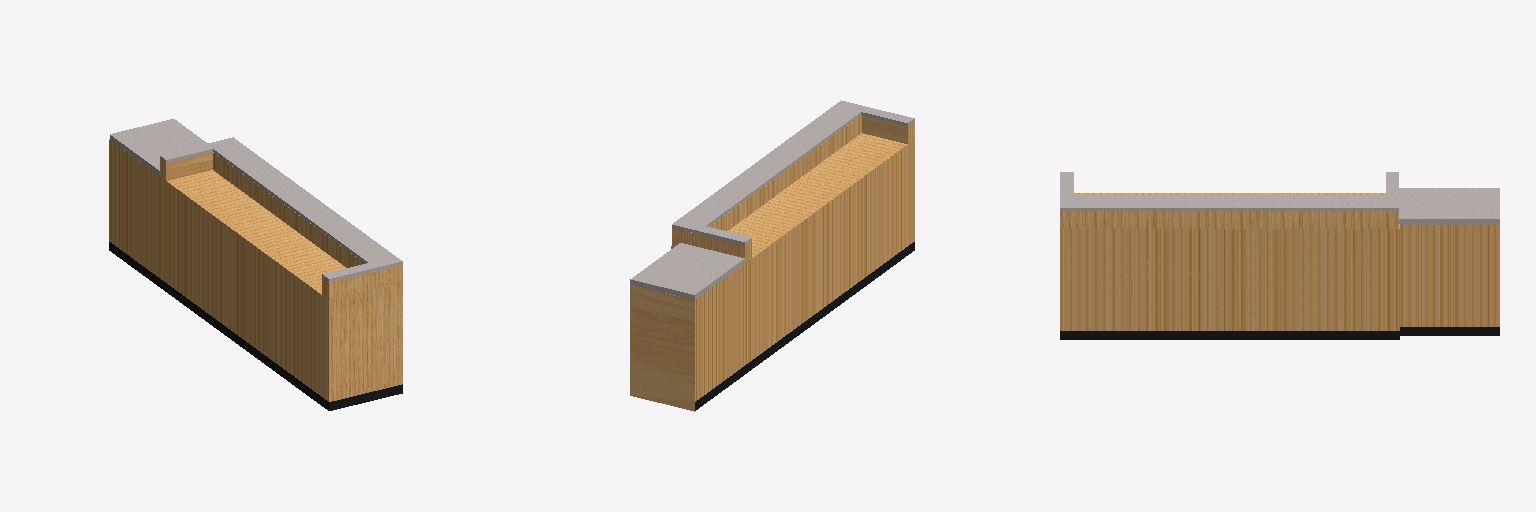
3 views of the same model, side by side, from view 1: azimuth 30°, elevation 25°; view 2: azimuth 150°, elevation 25°; view 3: azimuth 270°, elevation 25° (orthographic).
Parts seen in each view (by area): view 1: BarraPrincipal4:pCube3; view 2: BarraPrincipal4:pCube3; view 3: BarraPrincipal4:pCube3.
Part boxes in pixels (x1,y1,x2,y2): BarraPrincipal4:pCube3: (109, 119, 402, 410); BarraPrincipal4:pCube3: (630, 100, 914, 411); BarraPrincipal4:pCube3: (1060, 172, 1499, 339).
Size of the model in its own units: 1.16 by 1.99 by 6.
6 materials, 3 textured.